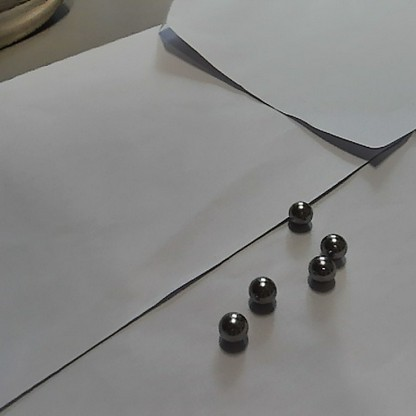ironball: (246, 274, 276, 306), (219, 310, 248, 342), (307, 254, 335, 284), (319, 231, 346, 258), (287, 199, 311, 226)
